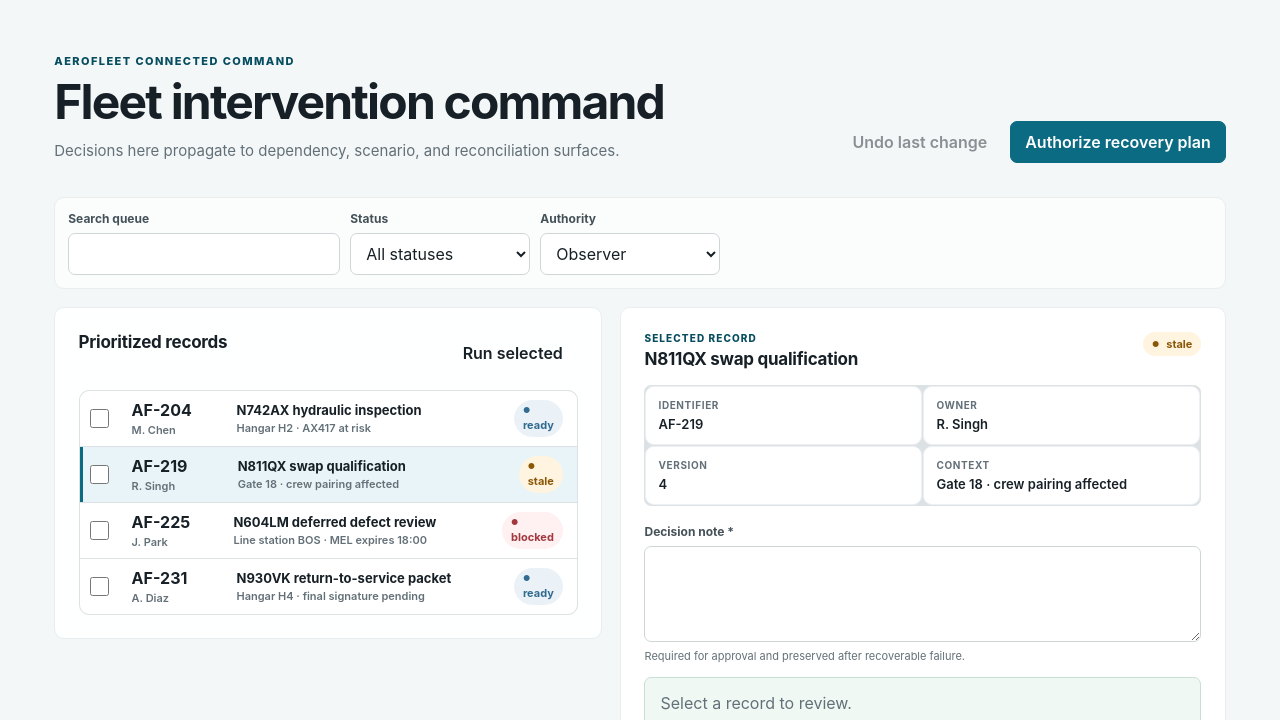
it: Fleet intervention command › recovers a stale save while preserving the decision note
Select "Approver" in the dropdown labelled "Authority" at (630, 254), box [540,234,720,276]
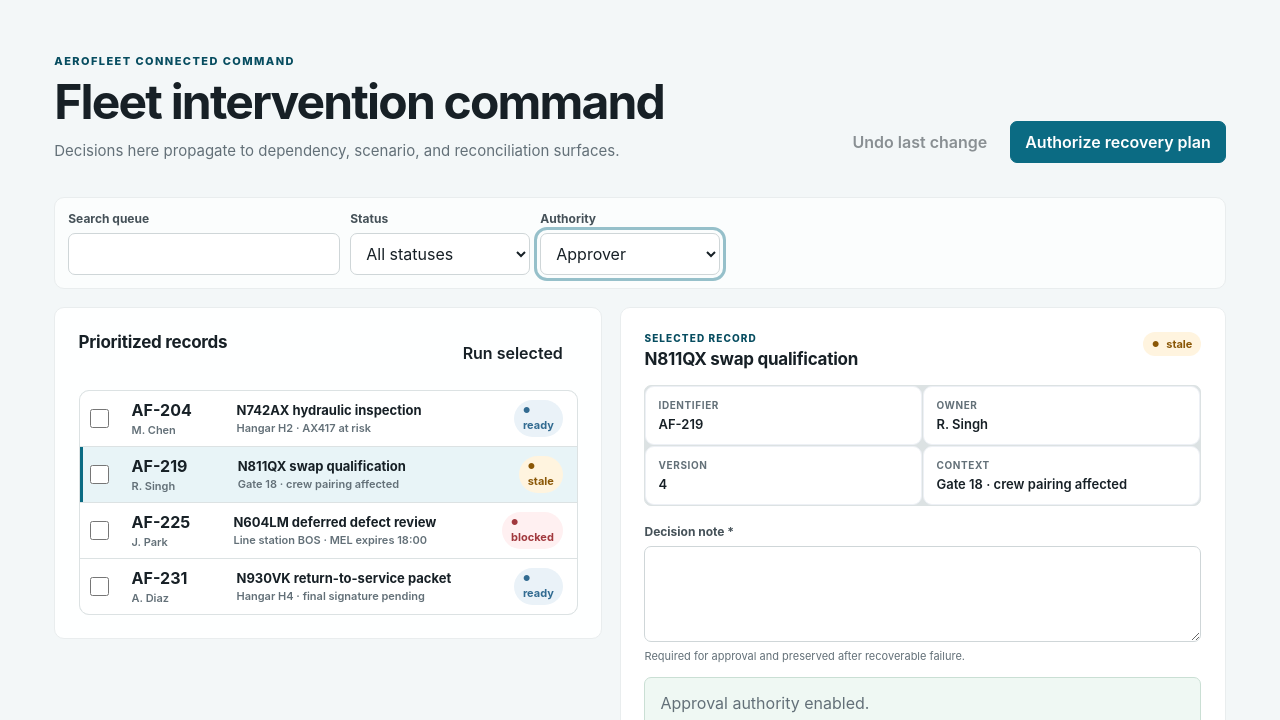
Type "Keep this evidence-based rationale" into the text box labelled "Decision note" at (923, 594), box [644,546,1201,642]
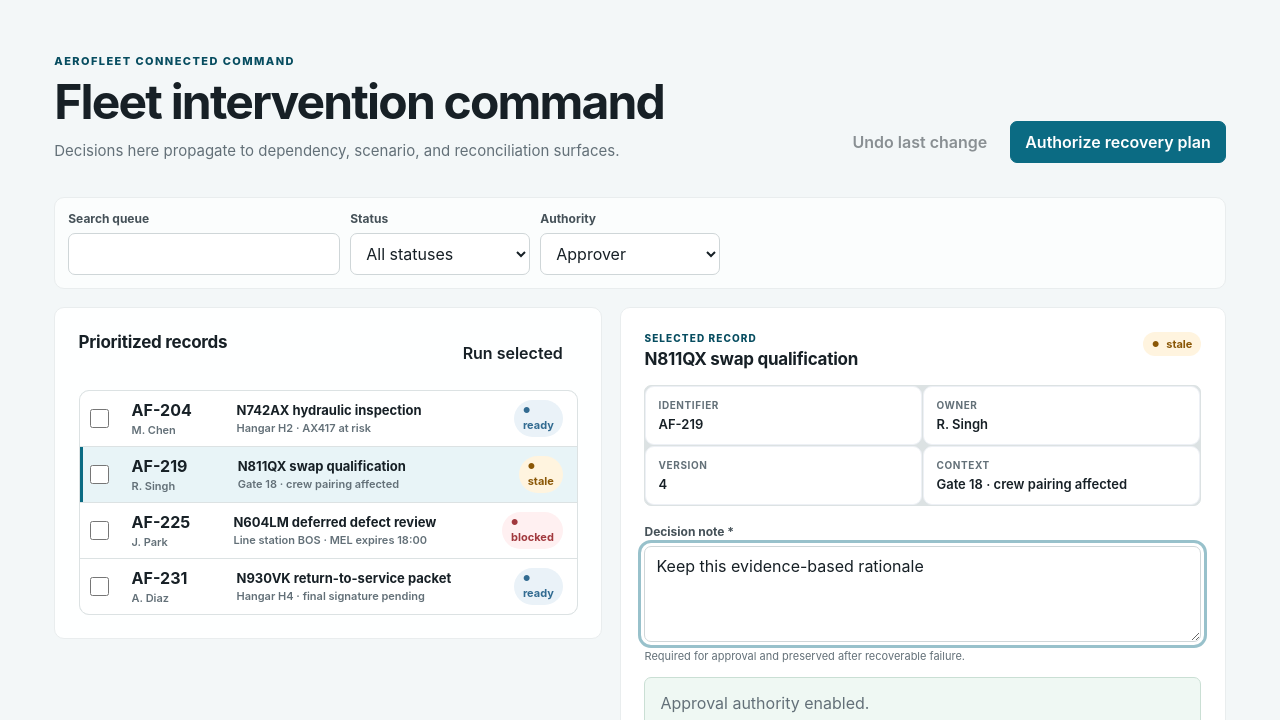
Click the button "Authorize recovery plan" at (1118, 142), box [1010,122,1226,164]
(page scrolled)
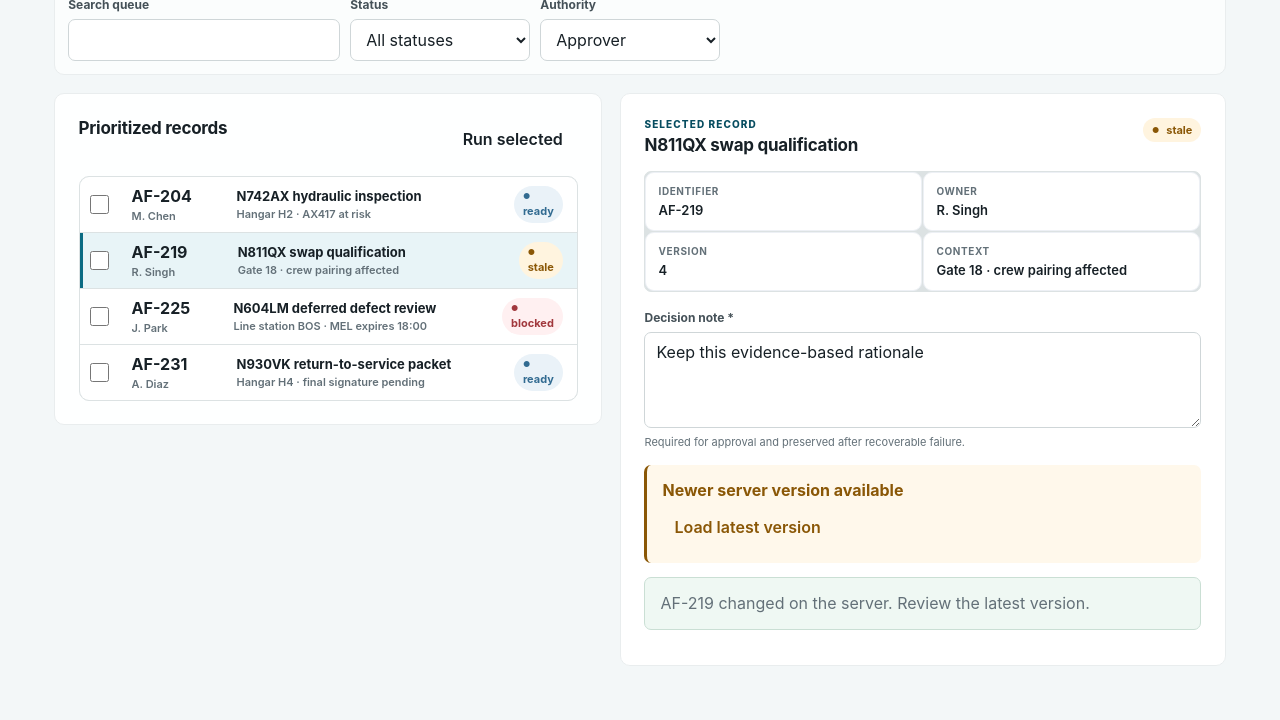
Check: the message "Newer server version available Load latest version" is shown, box [644,465,1201,563]
Click the button "Load latest version" at (748, 527), box [662,506,1186,548]
(page scrolled)
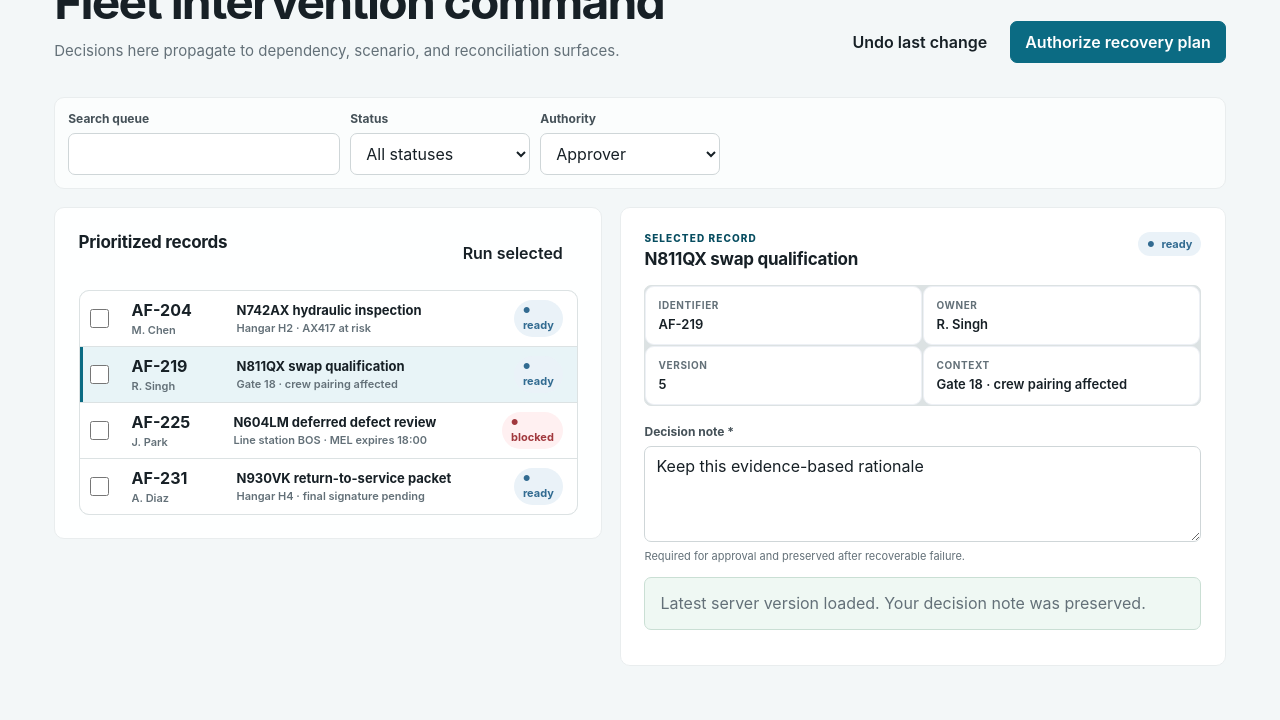
Click the button "Authorize recovery plan" at (1118, 42), box [1010,22,1226,64]
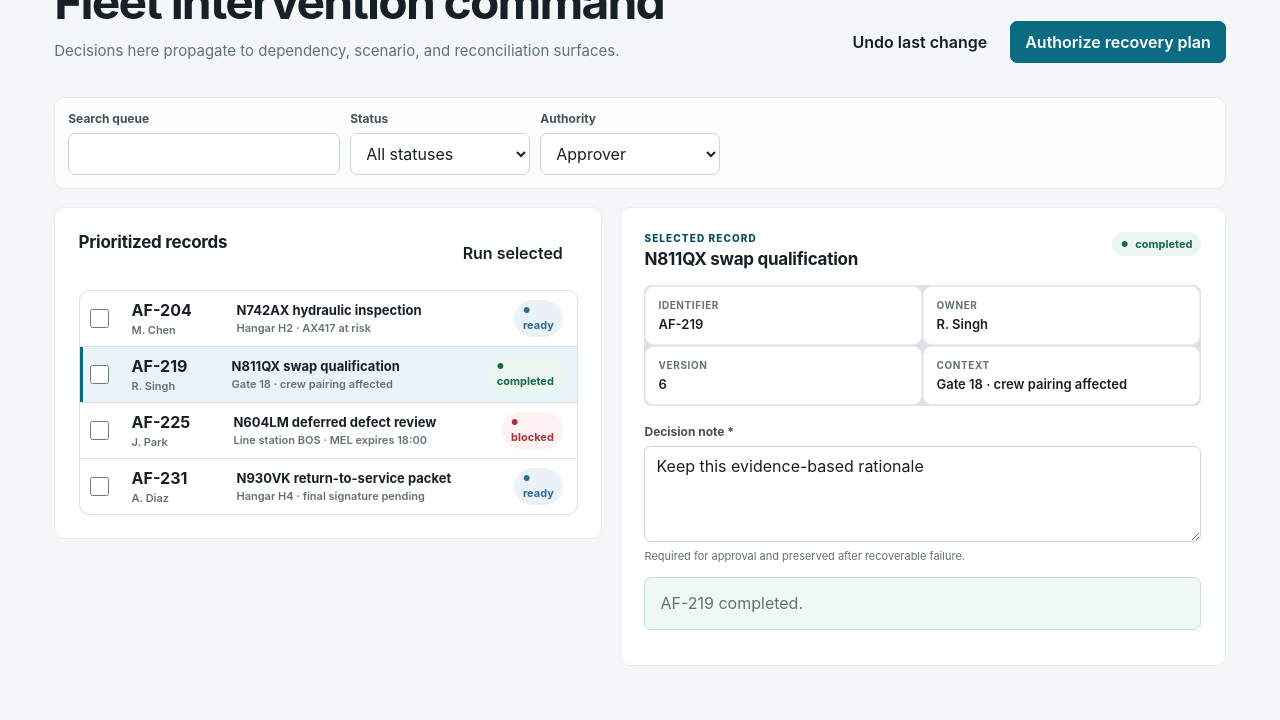
Check: the message shows "completed", box [660,593,803,613]
